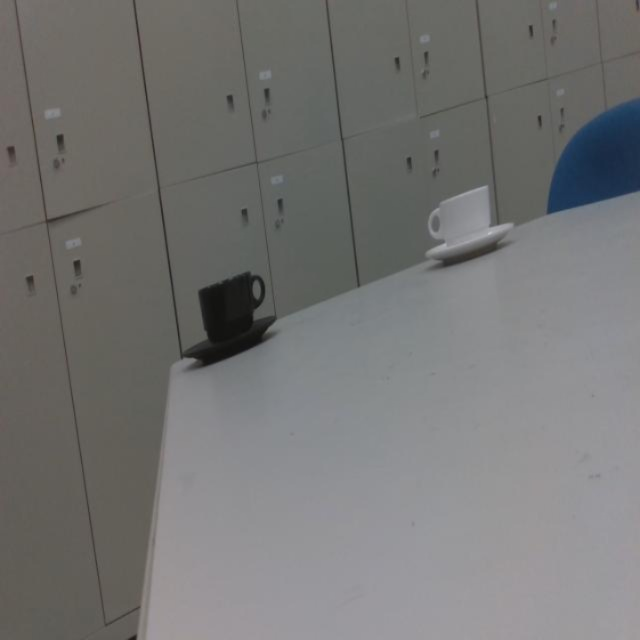black: (176, 265, 281, 370)
white: (416, 171, 516, 278)
